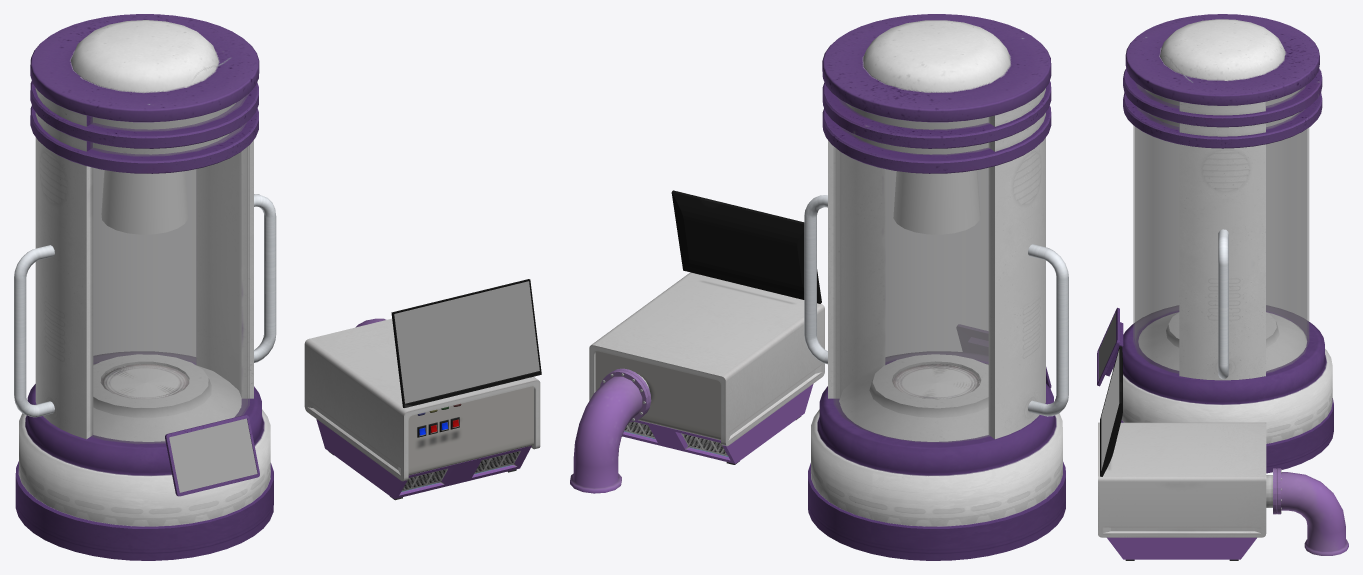
The model's file is CapsuleChamber.fbx.
3 views of the same model, side by side, from view 1: azimuth 30°, elevation 25°; view 2: azimuth 150°, elevation 25°; view 3: azimuth 270°, elevation 25° (orthographic). The views are drawn at different scales.
Visible parts, largest first — view 1: A_CapsuleChamber1, A_CapsuleChamberGlass, CultivaterCell_Monitor_Variant, CultivaterCell_Monitor_Screen, Light_Beam, A_CapsuleChamber_Screen; view 2: A_CapsuleChamber1, CultivaterCell_Monitor_Variant, A_CapsuleChamberGlass, Light_Beam; view 3: A_CapsuleChamber1, CultivaterCell_Monitor_Variant, A_CapsuleChamberGlass, CultivaterCell_Monitor_Screen, A_CapsuleChamber_Screen.
Part boxes in pixels (x1=…): A_CapsuleChamber1: x1=14, y1=14, x2=276, y2=560; A_CapsuleChamberGlass: x1=90, y1=94, x2=249, y2=443; CultivaterCell_Monitor_Variant: x1=304, y1=279, x2=541, y2=500; CultivaterCell_Monitor_Screen: x1=394, y1=281, x2=539, y2=403; Light_Beam: x1=101, y1=170, x2=188, y2=234; A_CapsuleChamber_Screen: x1=169, y1=418, x2=257, y2=492; A_CapsuleChamber1: x1=804, y1=14, x2=1068, y2=560; CultivaterCell_Monitor_Variant: x1=570, y1=190, x2=824, y2=493; A_CapsuleChamberGlass: x1=833, y1=98, x2=989, y2=442; Light_Beam: x1=893, y1=170, x2=980, y2=234; A_CapsuleChamber1: x1=1097, y1=14, x2=1333, y2=473; CultivaterCell_Monitor_Variant: x1=1098, y1=346, x2=1348, y2=560; A_CapsuleChamberGlass: x1=1133, y1=83, x2=1309, y2=373; CultivaterCell_Monitor_Screen: x1=1101, y1=349, x2=1119, y2=470; A_CapsuleChamber_Screen: x1=1098, y1=312, x2=1115, y2=379.
Bounding box in the file's own units: 2664 × 2600 × 1505.
